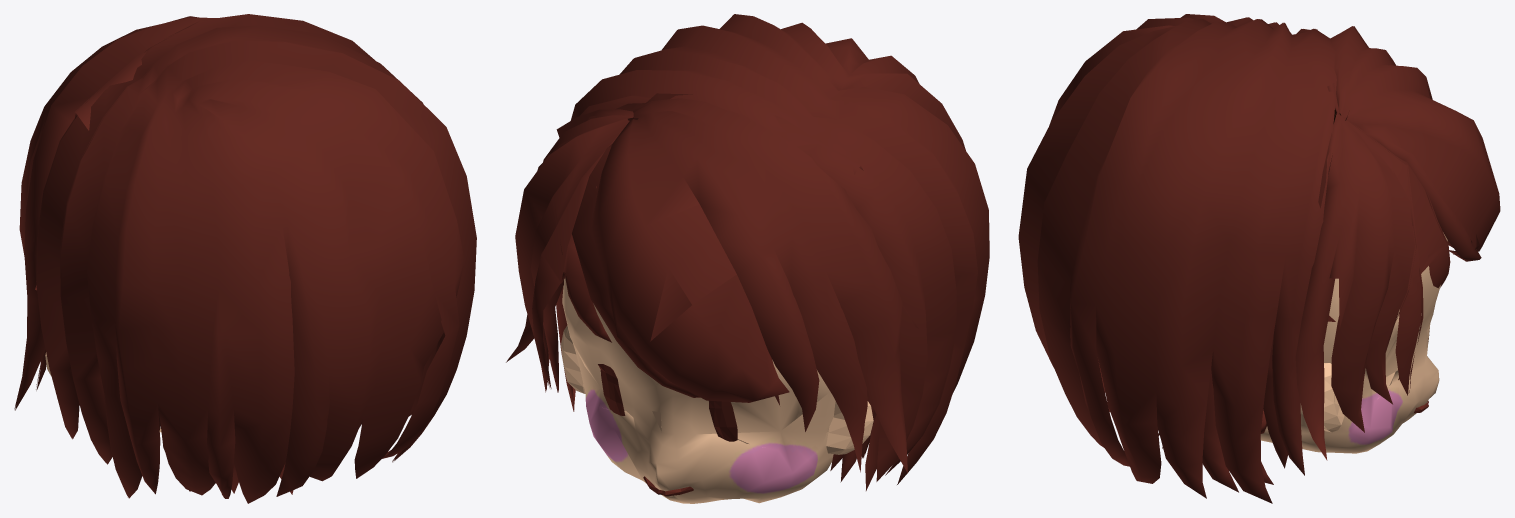
The model's file is chara.glb.
3 renders of one model, left to right at view 1: azimuth 30°, elevation 25°; view 2: azimuth 150°, elevation 25°; view 3: azimuth 270°, elevation 25°, orthographic.
Visible parts, largest first — view 1: Charafinal; view 2: Charafinal; view 3: Charafinal.
Part boxes in pixels (left/top/right/bottom): Charafinal: left=14, top=14, right=476, bottom=503; Charafinal: left=506, top=14, right=989, bottom=503; Charafinal: left=1018, top=14, right=1500, bottom=503.
Bounding box in the file's own units: 1.83 × 1.84 × 1.95.
4 materials, 4 textured.
